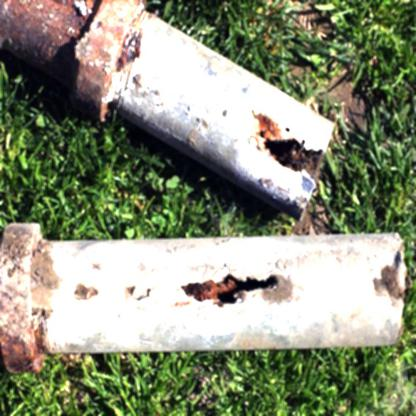burst: (172, 265, 282, 315), (246, 125, 329, 177)
